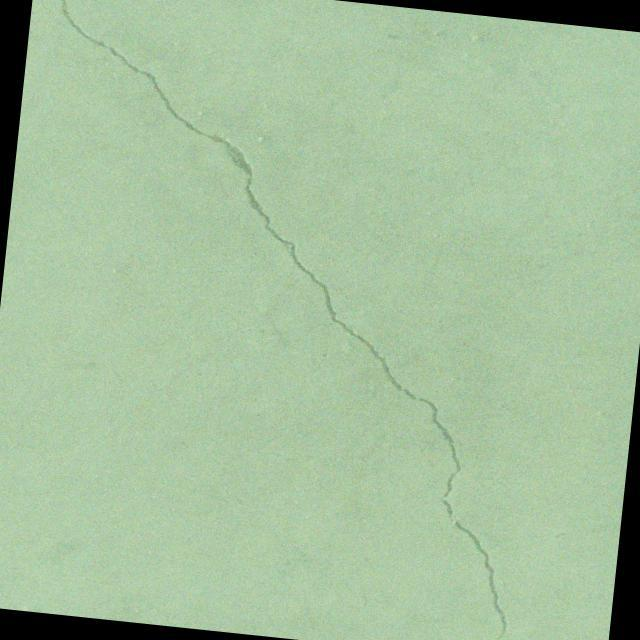crack: (0, 0, 607, 640), (591, 169, 640, 228)
